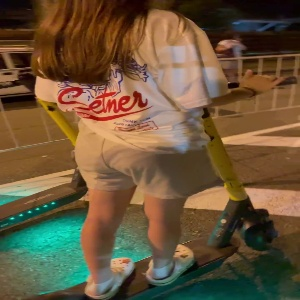human on a scooter: (1, 1, 297, 300)
